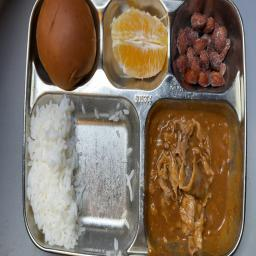100_bread: (36, 0, 100, 90)
100_nuts: (176, 8, 235, 90)
100_orange: (105, 3, 169, 84)
50_rice: (26, 91, 136, 250)
75_beef: (147, 103, 237, 250)
